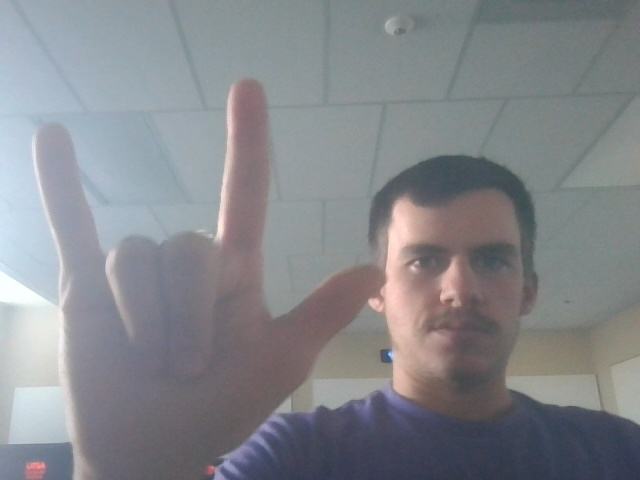iloveyou: (23, 70, 393, 465)
